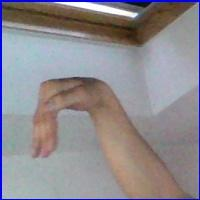del: (26, 73, 130, 166)
